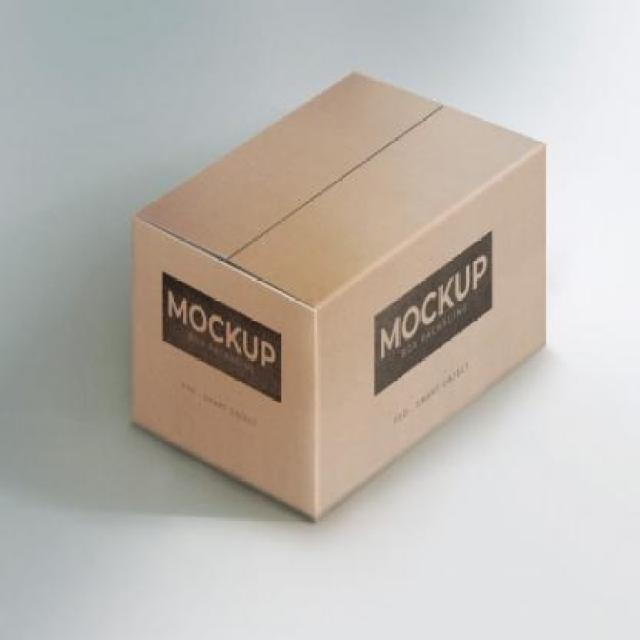box: (127, 66, 549, 525)
